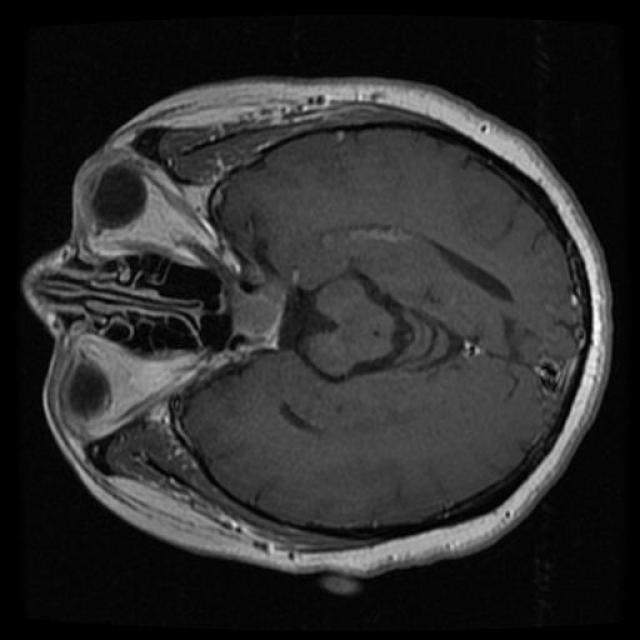Pituitary: (223, 257, 285, 347)
